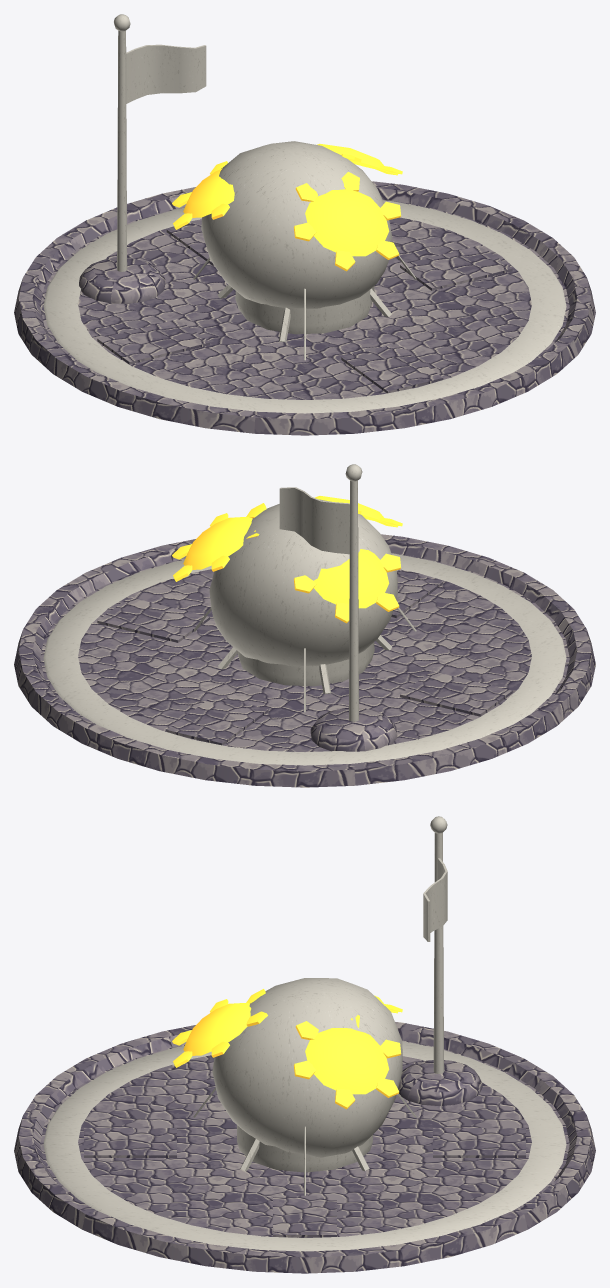
File: resource_point_primary.glb
The picture shows the model from 3 angles, top to bottom: view 1: azimuth 30°, elevation 25°; view 2: azimuth 150°, elevation 25°; view 3: azimuth 270°, elevation 25°; orthographic projection.
Visible parts, largest first — view 1: Base, State_Neutral, State_Plants, Flag, State_Zombies, Pole; view 2: Base, State_Neutral, State_Plants, Flag, State_Zombies, Pole; view 3: Base, State_Neutral, State_Plants, State_Zombies, Pole, Flag.
Boxes of the visible parts, box(x1,y1,x2,y2) form: Base: box(14, 181, 595, 435); State_Neutral: box(43, 141, 566, 413); State_Plants: box(172, 143, 402, 271); Flag: box(126, 44, 206, 103); State_Zombies: box(217, 284, 391, 342); Pole: box(114, 14, 130, 271); Base: box(14, 534, 595, 787); State_Neutral: box(43, 499, 566, 765); State_Plants: box(172, 496, 402, 623); Flag: box(279, 487, 349, 554); State_Zombies: box(218, 635, 392, 694); Pole: box(345, 464, 362, 721); Base: box(14, 1022, 595, 1273); State_Neutral: box(43, 978, 566, 1251); State_Plants: box(172, 989, 402, 1109); State_Zombies: box(237, 1125, 372, 1172); Pole: box(430, 816, 447, 1073); Flag: box(423, 858, 447, 941).
Size of the model in its own units: 10 by 5.25 by 10.
4 materials, 2 textured.
